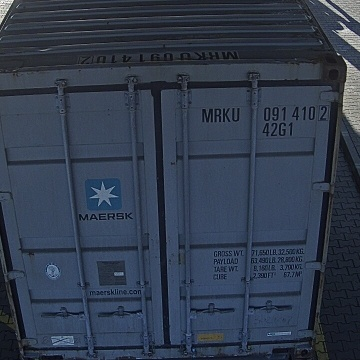serial_id: (201, 105, 327, 122)
